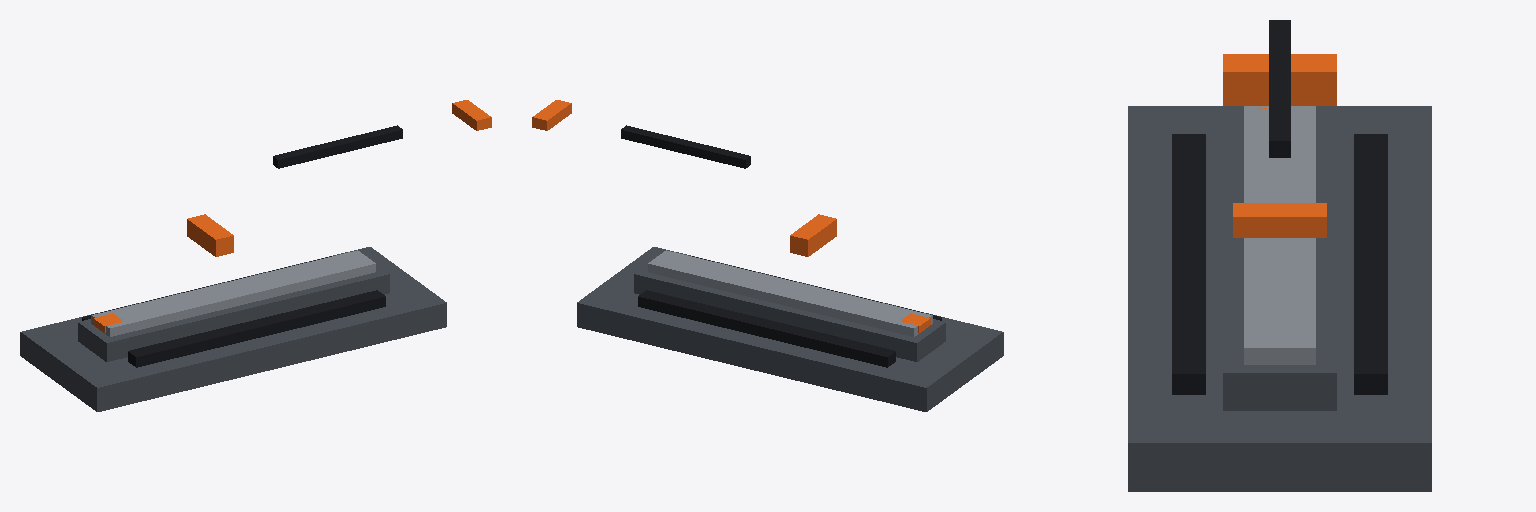
robot.urdf — cartesian_fed_linkage:
<robot name="cartesian_fed_linkage">
  <material name="machine_grey">
    <color rgba="0.34 0.36 0.39 1" />
    </material>
  <material name="rail_steel">
    <color rgba="0.58 0.6 0.63 1" />
    </material>
  <material name="anodized_aluminum">
    <color rgba="0.72 0.74 0.76 1" />
    </material>
  <material name="tool_black">
    <color rgba="0.14 0.15 0.17 1" />
    </material>
  <material name="safety_orange">
    <color rgba="0.95 0.46 0.16 1" />
    </material>
  <link name="base">
    <inertial>
      <origin xyz="0 0 0.03" rpy="0 0 0" />
      <mass value="14" />
      <inertia ixx="0.0340667" ixy="0" ixz="0" iyy="0.21" iyz="0" izz="0.235667" />
      </inertial>
    <visual>
      <origin xyz="0 0 0.014" rpy="0 0 0" />
      <geometry>
        <box size="0.42 0.16 0.028" />
        </geometry>
      <material name="machine_grey" />
      </visual>
    <visual>
      <origin xyz="0 0 0.039" rpy="0 0 0" />
      <geometry>
        <box size="0.34 0.06 0.022" />
        </geometry>
      <material name="machine_grey" />
      </visual>
    <visual>
      <origin xyz="0 0 0.055" rpy="0 0 0" />
      <geometry>
        <box size="0.32 0.038 0.01" />
        </geometry>
      <material name="rail_steel" />
      </visual>
    <visual>
      <origin xyz="0 0.048 0.034" rpy="0 0 0" />
      <geometry>
        <box size="0.3 0.018 0.012" />
        </geometry>
      <material name="tool_black" />
      </visual>
    <visual>
      <origin xyz="0 -0.048 0.034" rpy="0 0 0" />
      <geometry>
        <box size="0.3 0.018 0.012" />
        </geometry>
      <material name="tool_black" />
      </visual>
    <visual>
      <origin xyz="-0.15 0 0.056" rpy="0 0 0" />
      <geometry>
        <box size="0.024 0.024 0.008" />
        </geometry>
      <material name="safety_orange" />
      </visual>
    <collision name="base__visual_1">
      <origin xyz="0 0 0.014" rpy="0 0 0" />
      <geometry>
        <box size="0.42 0.16 0.028" />
        </geometry>
      </collision>
    <collision name="base__visual_2">
      <origin xyz="0 0 0.039" rpy="0 0 0" />
      <geometry>
        <box size="0.34 0.06 0.022" />
        </geometry>
      </collision>
    <collision name="base__visual_3">
      <origin xyz="0 0 0.055" rpy="0 0 0" />
      <geometry>
        <box size="0.32 0.038 0.01" />
        </geometry>
      </collision>
    <collision name="base__visual_4">
      <origin xyz="0 0.048 0.034" rpy="0 0 0" />
      <geometry>
        <box size="0.3 0.018 0.012" />
        </geometry>
      </collision>
    <collision name="base__visual_5">
      <origin xyz="0 -0.048 0.034" rpy="0 0 0" />
      <geometry>
        <box size="0.3 0.018 0.012" />
        </geometry>
      </collision>
    <collision name="base__visual_6">
      <origin xyz="-0.15 0 0.056" rpy="0 0 0" />
      <geometry>
        <box size="0.024 0.024 0.008" />
        </geometry>
      </collision>
    </link>
  <link name="carriage">
    <inertial>
      <origin xyz="0 0 0.07" rpy="0 0 0" />
      <mass value="3.2" />
      <inertia ixx="0.00693333" ixy="0" ixz="0" iyy="0.00693333" iyz="0" izz="0.00341333" />
      </inertial>
    <visual>
      <geometry>
        <mesh filename="meshes/carriage.obj" />
        </geometry>
      <material name="anodized_aluminum" />
      </visual>
    <visual>
      <origin xyz="-0.028 0 0.068" rpy="0 0 0" />
      <geometry>
        <box size="0.022 0.06 0.02" />
        </geometry>
      <material name="safety_orange" />
      </visual>
    <collision name="carriage__visual_1__hull_001">
      <geometry>
        <mesh filename="meshes/collision/cache/carriage__d1c09943b6f39697__hull_001.obj" />
        </geometry>
      </collision>
    <collision name="carriage__visual_1__hull_002">
      <geometry>
        <mesh filename="meshes/collision/cache/carriage__d1c09943b6f39697__hull_002.obj" />
        </geometry>
      </collision>
    <collision name="carriage__visual_1__hull_003">
      <geometry>
        <mesh filename="meshes/collision/cache/carriage__d1c09943b6f39697__hull_003.obj" />
        </geometry>
      </collision>
    <collision name="carriage__visual_1__hull_004">
      <geometry>
        <mesh filename="meshes/collision/cache/carriage__d1c09943b6f39697__hull_004.obj" />
        </geometry>
      </collision>
    <collision name="carriage__visual_1__hull_005">
      <geometry>
        <mesh filename="meshes/collision/cache/carriage__d1c09943b6f39697__hull_005.obj" />
        </geometry>
      </collision>
    <collision name="carriage__visual_1__hull_006">
      <geometry>
        <mesh filename="meshes/collision/cache/carriage__d1c09943b6f39697__hull_006.obj" />
        </geometry>
      </collision>
    <collision name="carriage__visual_1__hull_007">
      <geometry>
        <mesh filename="meshes/collision/cache/carriage__d1c09943b6f39697__hull_007.obj" />
        </geometry>
      </collision>
    <collision name="carriage__visual_1__hull_008">
      <geometry>
        <mesh filename="meshes/collision/cache/carriage__d1c09943b6f39697__hull_008.obj" />
        </geometry>
      </collision>
    <collision name="carriage__visual_1__hull_009">
      <geometry>
        <mesh filename="meshes/collision/cache/carriage__d1c09943b6f39697__hull_009.obj" />
        </geometry>
      </collision>
    <collision name="carriage__visual_1__hull_010">
      <geometry>
        <mesh filename="meshes/collision/cache/carriage__d1c09943b6f39697__hull_010.obj" />
        </geometry>
      </collision>
    <collision name="carriage__visual_1__hull_011">
      <geometry>
        <mesh filename="meshes/collision/cache/carriage__d1c09943b6f39697__hull_011.obj" />
        </geometry>
      </collision>
    <collision name="carriage__visual_2">
      <origin xyz="-0.028 0 0.068" rpy="0 0 0" />
      <geometry>
        <box size="0.022 0.06 0.02" />
        </geometry>
      </collision>
    </link>
  <link name="arm">
    <inertial>
      <origin xyz="0.135 0 0" rpy="0 0 0" />
      <mass value="2.1" />
      <inertia ixx="0.00126" ixy="0" ixz="0" iyy="0.0133875" iyz="0" izz="0.0133875" />
      </inertial>
    <visual>
      <geometry>
        <mesh filename="meshes/arm.obj" />
        </geometry>
      <material name="anodized_aluminum" />
      </visual>
    <visual>
      <origin xyz="0.125 0 0.021" rpy="0 0 0" />
      <geometry>
        <box size="0.15 0.012 0.01" />
        </geometry>
      <material name="tool_black" />
      </visual>
    <collision name="arm__visual_1__hull_001">
      <geometry>
        <mesh filename="meshes/collision/cache/arm__ea11c0208597c3b0__hull_001.obj" />
        </geometry>
      </collision>
    <collision name="arm__visual_1__hull_002">
      <geometry>
        <mesh filename="meshes/collision/cache/arm__ea11c0208597c3b0__hull_002.obj" />
        </geometry>
      </collision>
    <collision name="arm__visual_1__hull_003">
      <geometry>
        <mesh filename="meshes/collision/cache/arm__ea11c0208597c3b0__hull_003.obj" />
        </geometry>
      </collision>
    <collision name="arm__visual_1__hull_004">
      <geometry>
        <mesh filename="meshes/collision/cache/arm__ea11c0208597c3b0__hull_004.obj" />
        </geometry>
      </collision>
    <collision name="arm__visual_1__hull_005">
      <geometry>
        <mesh filename="meshes/collision/cache/arm__ea11c0208597c3b0__hull_005.obj" />
        </geometry>
      </collision>
    <collision name="arm__visual_1__hull_006">
      <geometry>
        <mesh filename="meshes/collision/cache/arm__ea11c0208597c3b0__hull_006.obj" />
        </geometry>
      </collision>
    <collision name="arm__visual_1__hull_007">
      <geometry>
        <mesh filename="meshes/collision/cache/arm__ea11c0208597c3b0__hull_007.obj" />
        </geometry>
      </collision>
    <collision name="arm__visual_1__hull_008">
      <geometry>
        <mesh filename="meshes/collision/cache/arm__ea11c0208597c3b0__hull_008.obj" />
        </geometry>
      </collision>
    <collision name="arm__visual_1__hull_009">
      <geometry>
        <mesh filename="meshes/collision/cache/arm__ea11c0208597c3b0__hull_009.obj" />
        </geometry>
      </collision>
    <collision name="arm__visual_1__hull_010">
      <geometry>
        <mesh filename="meshes/collision/cache/arm__ea11c0208597c3b0__hull_010.obj" />
        </geometry>
      </collision>
    <collision name="arm__visual_2">
      <origin xyz="0.125 0 0.021" rpy="0 0 0" />
      <geometry>
        <box size="0.15 0.012 0.01" />
        </geometry>
      </collision>
    </link>
  <link name="tool_slide">
    <inertial>
      <origin xyz="0.08 0 0" rpy="0 0 0" />
      <mass value="0.9" />
      <inertia ixx="0.0008475" ixy="0" ixz="0" iyy="0.0024" iyz="0" izz="0.0022875" />
      </inertial>
    <visual>
      <geometry>
        <mesh filename="meshes/tool_slide.obj" />
        </geometry>
      <material name="tool_black" />
      </visual>
    <visual>
      <origin xyz="0.136 0 0.02" rpy="0 0 0" />
      <geometry>
        <box size="0.018 0.05 0.012" />
        </geometry>
      <material name="safety_orange" />
      </visual>
    <collision name="tool_slide__visual_1__hull_001">
      <geometry>
        <mesh filename="meshes/collision/cache/tool_slide__9a1bc478d0c65ada__hull_001.obj" />
        </geometry>
      </collision>
    <collision name="tool_slide__visual_1__hull_002">
      <geometry>
        <mesh filename="meshes/collision/cache/tool_slide__9a1bc478d0c65ada__hull_002.obj" />
        </geometry>
      </collision>
    <collision name="tool_slide__visual_1__hull_003">
      <geometry>
        <mesh filename="meshes/collision/cache/tool_slide__9a1bc478d0c65ada__hull_003.obj" />
        </geometry>
      </collision>
    <collision name="tool_slide__visual_1__hull_004">
      <geometry>
        <mesh filename="meshes/collision/cache/tool_slide__9a1bc478d0c65ada__hull_004.obj" />
        </geometry>
      </collision>
    <collision name="tool_slide__visual_1__hull_005">
      <geometry>
        <mesh filename="meshes/collision/cache/tool_slide__9a1bc478d0c65ada__hull_005.obj" />
        </geometry>
      </collision>
    <collision name="tool_slide__visual_2">
      <origin xyz="0.136 0 0.02" rpy="0 0 0" />
      <geometry>
        <box size="0.018 0.05 0.012" />
        </geometry>
      </collision>
    </link>
  <joint name="base_to_carriage" type="prismatic">
    <origin xyz="0 0 0.06" rpy="0 0 0" />
    <parent link="base" />
    <child link="carriage" />
    <axis xyz="1 0 0" />
    <limit effort="90" velocity="0.8" lower="-0.11" upper="0.11" />
    </joint>
  <joint name="carriage_to_arm" type="revolute">
    <origin xyz="0 0 0.113" rpy="0 0 0" />
    <parent link="carriage" />
    <child link="arm" />
    <axis xyz="0 -1 0" />
    <limit effort="45" velocity="1.2" lower="0" upper="1.05" />
    </joint>
  <joint name="arm_to_tool_slide" type="prismatic">
    <origin xyz="0.15 0 0" rpy="0 0 0" />
    <parent link="arm" />
    <child link="tool_slide" />
    <axis xyz="1 0 0" />
    <limit effort="35" velocity="0.6" lower="0" upper="0.095" />
    </joint>
  </robot>

--- Render facts (derived) ---
Views: 3 orthographic renders of the robot side by side, from view 1: azimuth 30°, elevation 25°; view 2: azimuth 150°, elevation 25°; view 3: azimuth 270°, elevation 25°.
Model cartesian_fed_linkage with 4 links and 3 joints (1 revolute, 2 prismatic), rooted at base, posed every joint at zero.
Visible links, largest first — view 1: base, arm, carriage, tool_slide; view 2: base, arm, carriage, tool_slide; view 3: base, carriage, tool_slide, arm.
Boxes of the visible links, bbox=[...] form: base: bbox=[20, 247, 446, 411]; arm: bbox=[273, 125, 402, 168]; carriage: bbox=[187, 214, 233, 256]; tool_slide: bbox=[452, 100, 491, 130]; base: bbox=[577, 247, 1003, 411]; arm: bbox=[621, 125, 750, 168]; carriage: bbox=[790, 214, 836, 256]; tool_slide: bbox=[532, 100, 571, 130]; base: bbox=[1128, 106, 1431, 491]; carriage: bbox=[1223, 54, 1336, 105]; tool_slide: bbox=[1233, 203, 1326, 237]; arm: bbox=[1269, 20, 1290, 157].
Bounding box of the posed robot: 0.505 × 0.16 × 0.199 m (x, y, z).
0 mesh visuals loaded from 3 distinct referenced files (none loaded); not drawn: 3 (reference not matched to a file when rendering).
